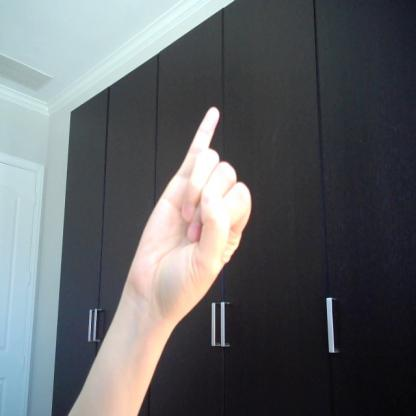I: (125, 107, 250, 322)
